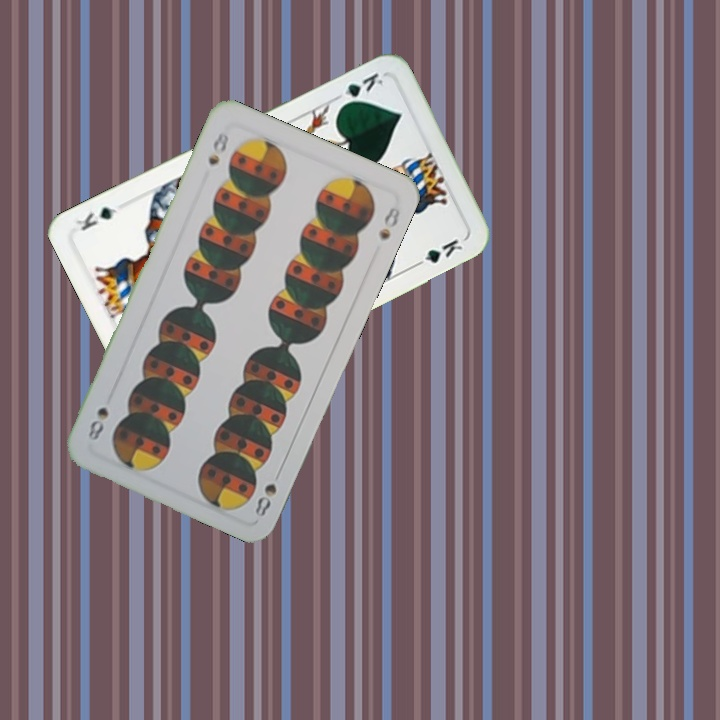GK: (335, 68, 386, 110)
S8: (251, 479, 280, 519), (204, 127, 231, 168)
